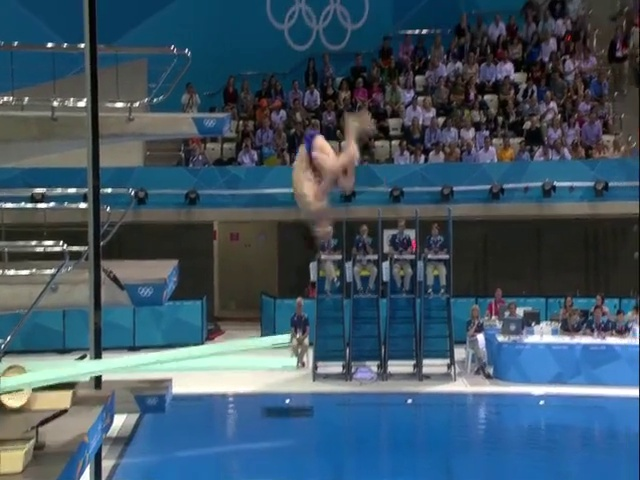diver: (291, 111, 377, 254)
